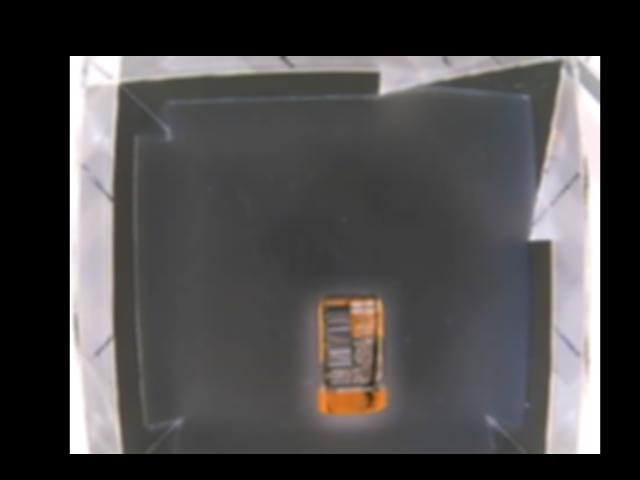Bottle: (314, 293, 388, 414)
